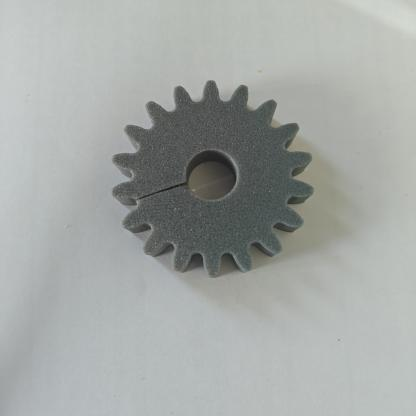defect: (114, 158, 212, 234)
gear: (108, 76, 320, 283)
